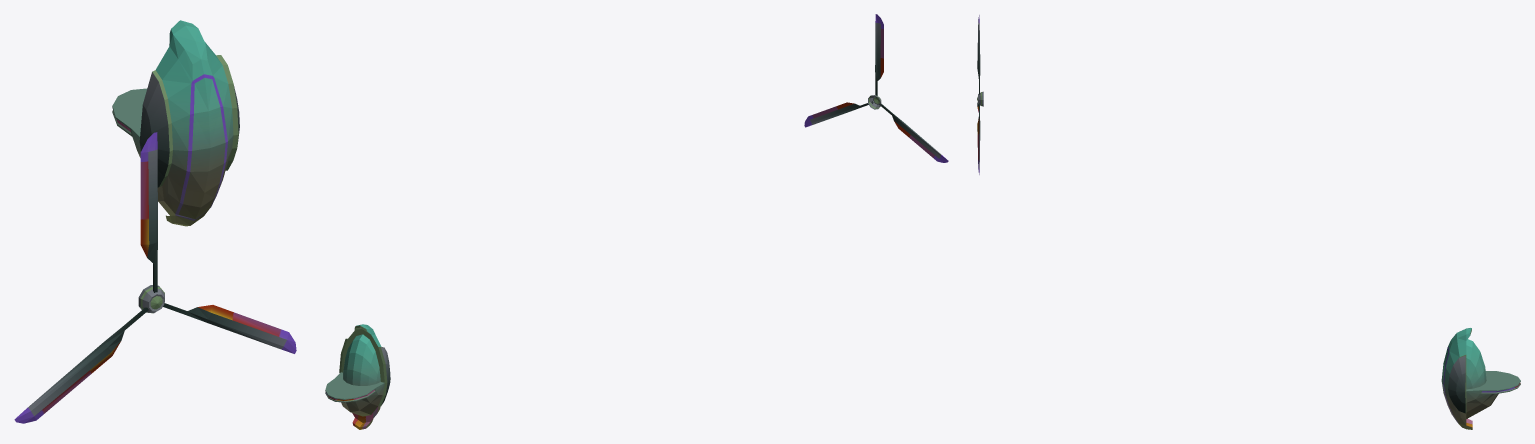
Rendered from sky_flyer.glb.
3 renders of one model, left to right at view 1: azimuth 30°, elevation 25°; view 2: azimuth 150°, elevation 25°; view 3: azimuth 270°, elevation 25°, orthographic. The views are drawn at different scales.
Visible parts, largest first — view 1: Sky_flyer, Sky_flyer_wings; view 2: Sky_flyer, Sky_flyer_wings; view 3: Sky_flyer.
Boxes of the visible parts, x1,y1,x2,y2 form: Sky_flyer: (112, 20, 239, 226); Sky_flyer_wings: (14, 132, 296, 423); Sky_flyer: (325, 324, 390, 429); Sky_flyer_wings: (804, 14, 948, 162); Sky_flyer: (1441, 328, 1520, 429).
Size of the model in its own units: 6.64 by 5.2 by 8.87.
Materials: 1 (1 with a texture image).
